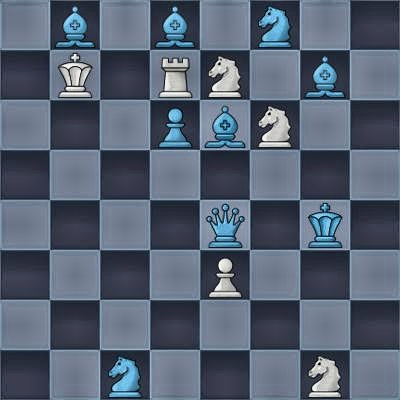black-bishop: (50, 0, 100, 50), (150, 0, 200, 50), (300, 50, 350, 100), (200, 100, 250, 150)
black-king: (300, 200, 350, 250)
black-knight: (250, 0, 300, 50), (100, 350, 150, 400)
black-pawn: (150, 100, 200, 150)
black-queen: (200, 200, 250, 250)
white-king: (50, 50, 100, 100)
white-knight: (200, 50, 250, 100), (250, 100, 300, 150), (300, 350, 350, 400)
white-pawn: (200, 250, 250, 300)
white-rook: (150, 50, 200, 100)
